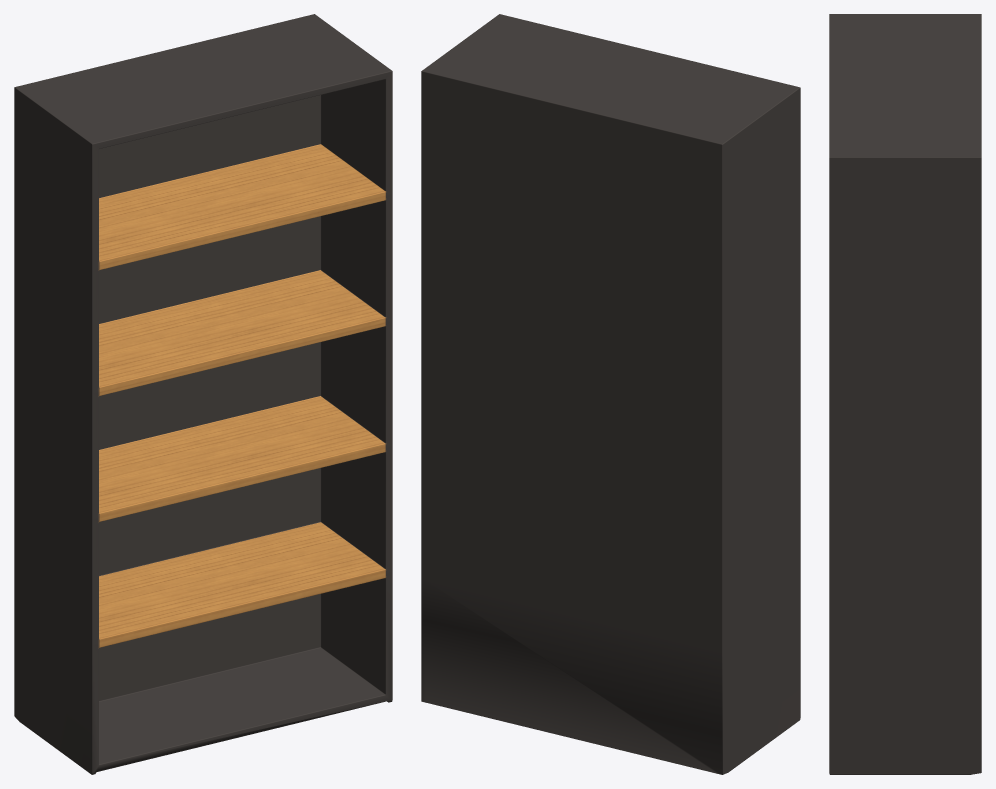
The model's file is shelf1.glb.
The picture shows the model from 3 angles, left to right: view 1: azimuth 30°, elevation 25°; view 2: azimuth 150°, elevation 25°; view 3: azimuth 270°, elevation 25°; orthographic projection. The views are drawn at different scales.
Visible parts, largest first — view 1: Shelves 900 400 1800 mm; view 2: Shelves 900 400 1800 mm; view 3: Shelves 900 400 1800 mm.
Part boxes in pixels (x1=…): Shelves 900 400 1800 mm: x1=14, y1=14, x2=392, y2=774; Shelves 900 400 1800 mm: x1=421, y1=14, x2=800, y2=774; Shelves 900 400 1800 mm: x1=829, y1=14, x2=981, y2=774.
Bounding box in the file's own units: 1.99 × 3.98 × 0.8916.
Materials: 1 (1 with a texture image).
